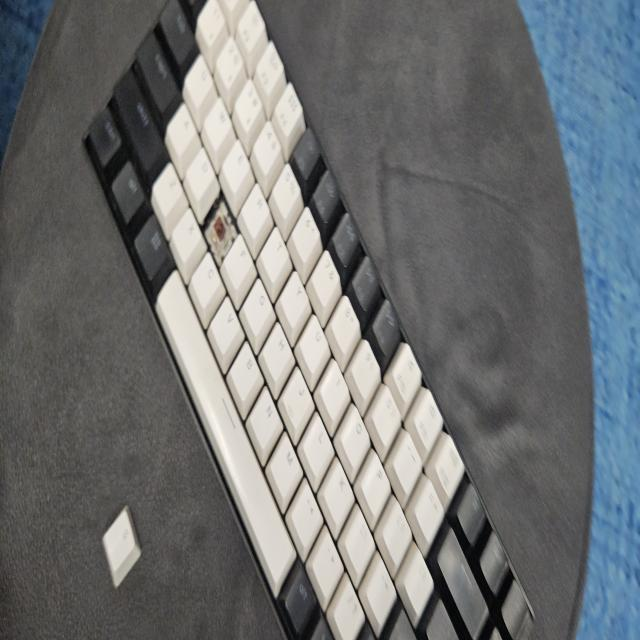C: (213, 208, 230, 248)
